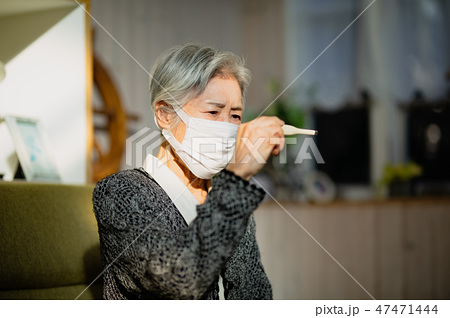mask: (179, 112, 238, 177)
